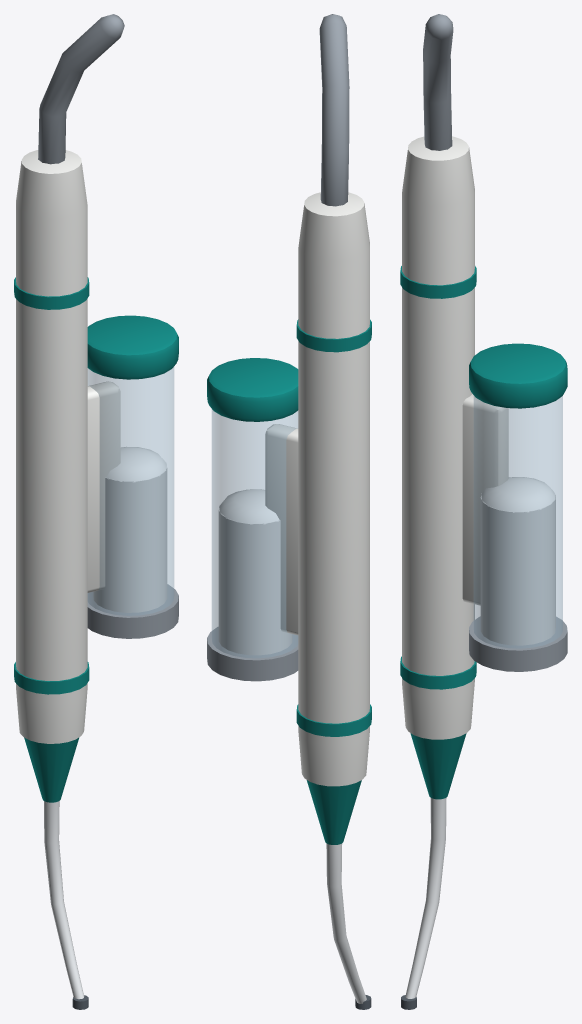
Rendered from tool_airpolisher.glb.
3 renders of one model, left to right at view 1: azimuth 30°, elevation 25°; view 2: azimuth 150°, elevation 25°; view 3: azimuth 330°, elevation 25°, orthographic.
Parts seen in each view (by area): view 1: tool_airpolisher; view 2: tool_airpolisher; view 3: tool_airpolisher.
Boxes of the visible parts, x1=… form: tool_airpolisher: x1=14, y1=14, x2=178, y2=1009; tool_airpolisher: x1=207, y1=14, x2=371, y2=1009; tool_airpolisher: x1=400, y1=14, x2=567, y2=1009.
Size of the model in its own units: 1.52 by 9.34 by 1.04.
